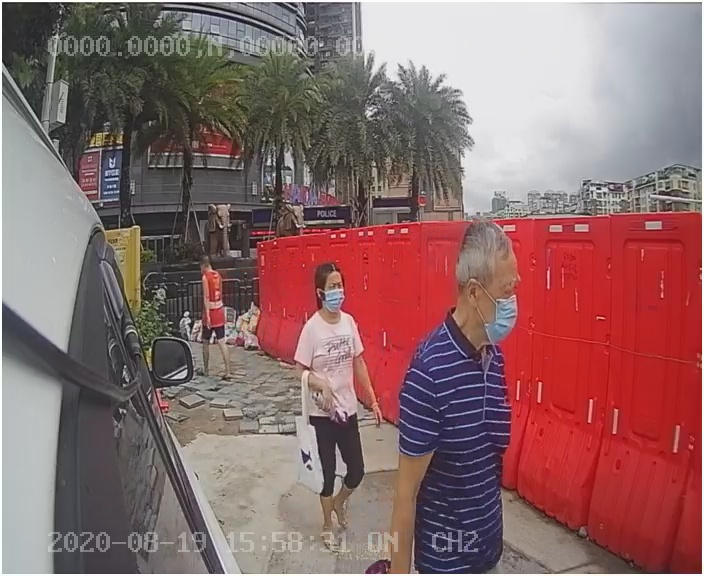person: (276, 257, 393, 535)
